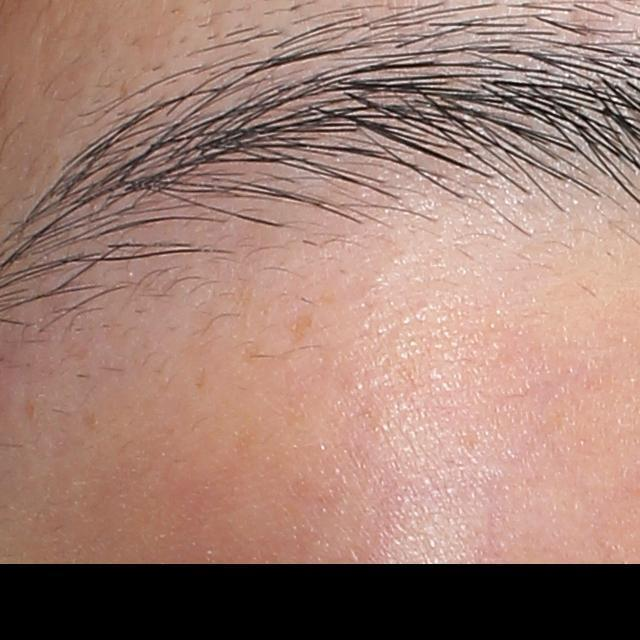melasma: (292, 313, 316, 342)
